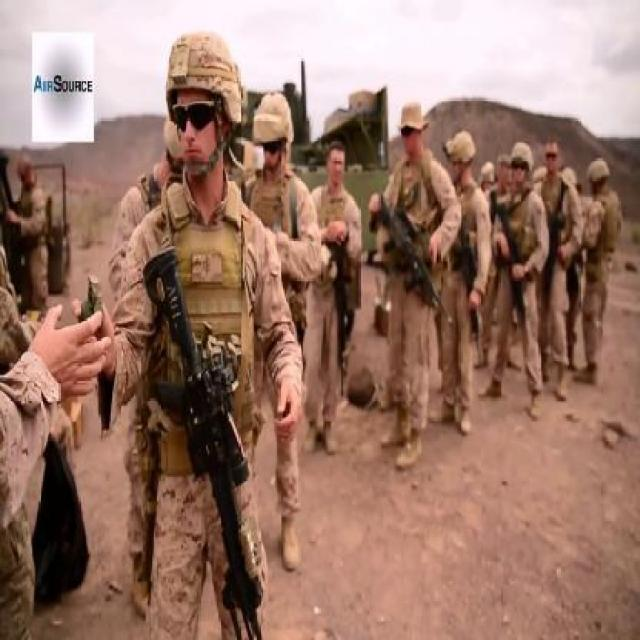Grenade: (77, 275, 103, 331)
Rifle: (144, 247, 264, 640), (372, 194, 454, 326), (454, 220, 484, 363), (495, 200, 528, 325), (544, 178, 570, 324)
